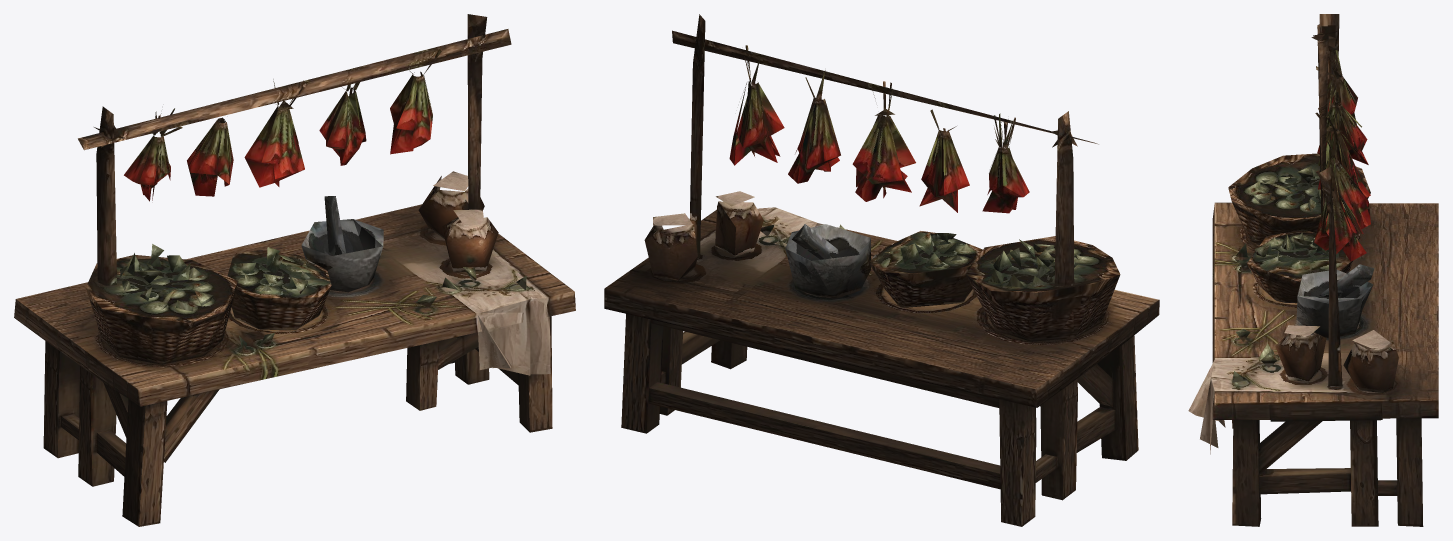
The model's file is act1_extras_v1_harvest_table.glb.
3 views of the same model, side by side, from view 1: azimuth 30°, elevation 25°; view 2: azimuth 150°, elevation 25°; view 3: azimuth 270°, elevation 25° (orthographic). The views are drawn at different scales.
Visible parts, largest first — view 1: A20_6_harvest_table; view 2: A20_6_harvest_table; view 3: A20_6_harvest_table.
Part boxes in pixels (x1,y1,x2,y2): A20_6_harvest_table: (14, 14, 575, 526); A20_6_harvest_table: (604, 14, 1159, 526); A20_6_harvest_table: (1188, 14, 1438, 526).
Size of the model in its own units: 0.9995 by 0.834 by 0.5454.
Materials: 1 (1 with a texture image).
